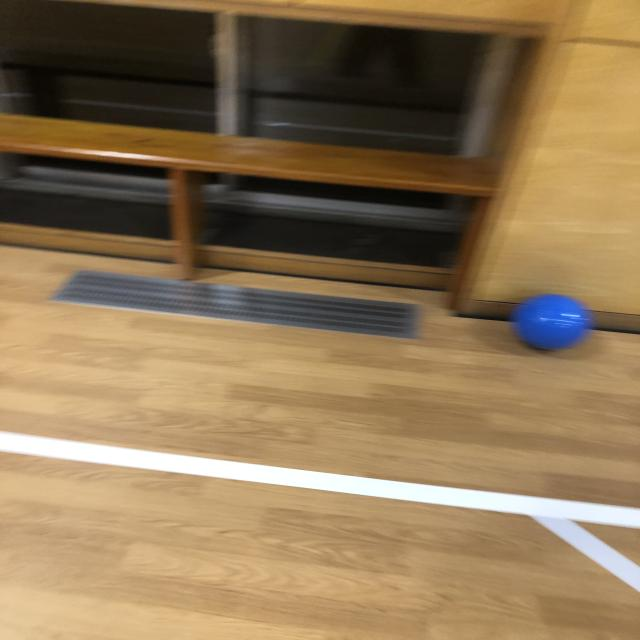blue_ball: (507, 294, 593, 354)
